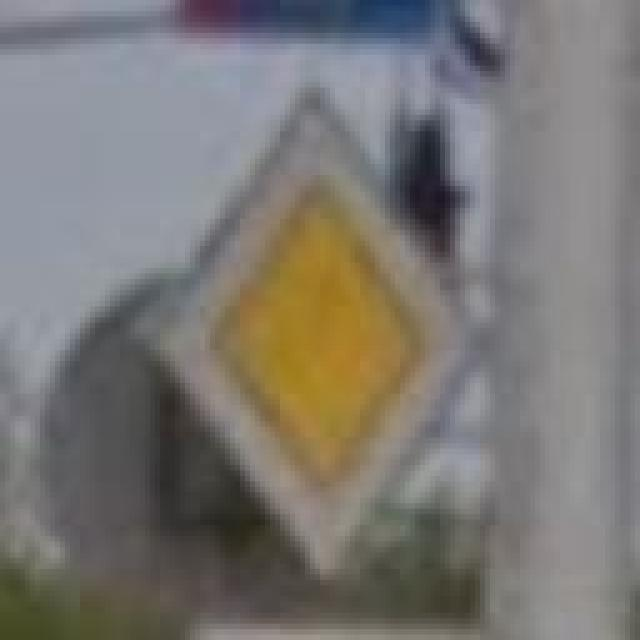traffic_sign: (150, 82, 485, 585)
